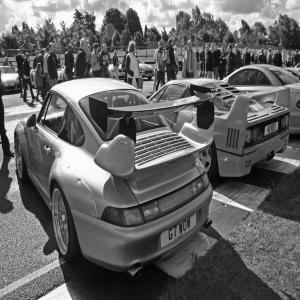Vehicle-registration-plate: (162, 214, 198, 249), (266, 122, 280, 136), (6, 83, 15, 88)
